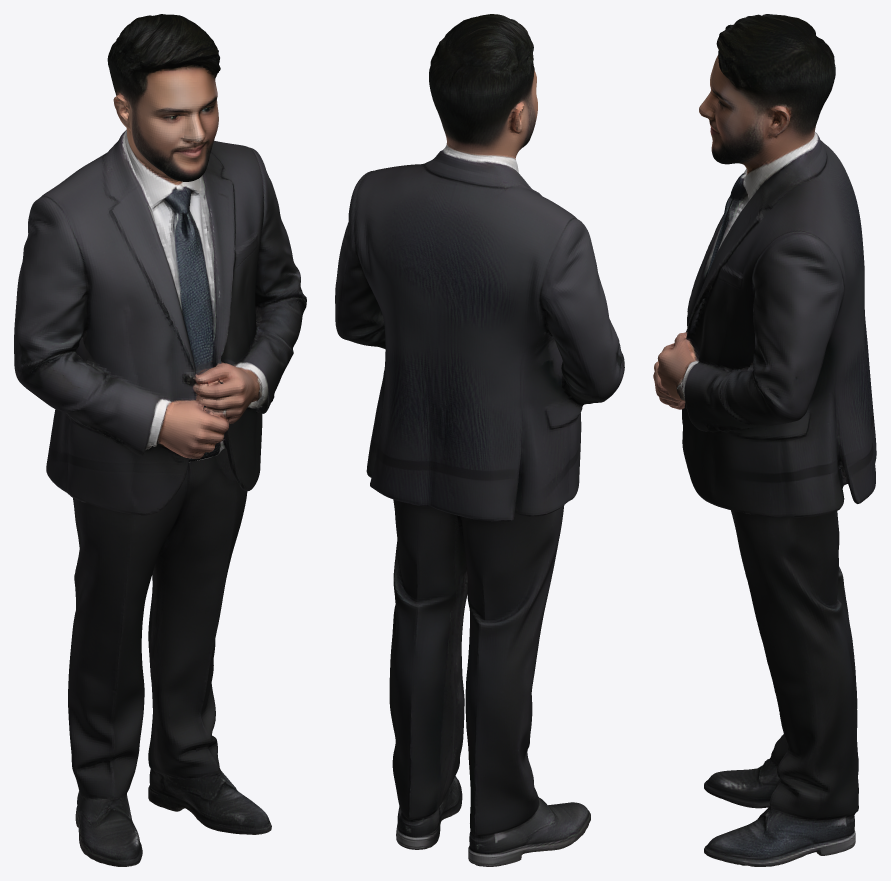
File: scott-v2.glb
3 views of the same model, side by side, from view 1: azimuth 30°, elevation 25°; view 2: azimuth 150°, elevation 25°; view 3: azimuth 270°, elevation 25° (orthographic).
Size of the model in its own units: 0.7018 by 1.91 by 0.4785.
1 material, 1 textured.
